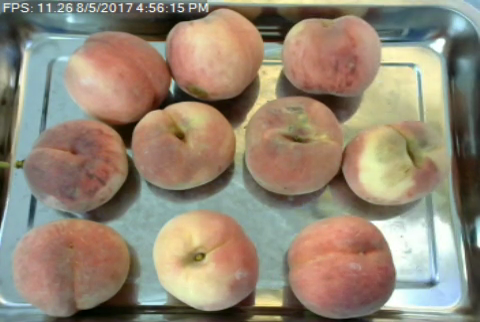Peach: (10, 219, 128, 316), (288, 215, 396, 319), (153, 211, 259, 310), (242, 94, 342, 195), (66, 29, 169, 125), (25, 118, 130, 212), (130, 99, 235, 190), (166, 6, 264, 102), (342, 120, 448, 205), (279, 15, 381, 99)
